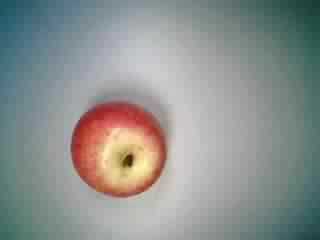apple: (64, 101, 170, 200)
